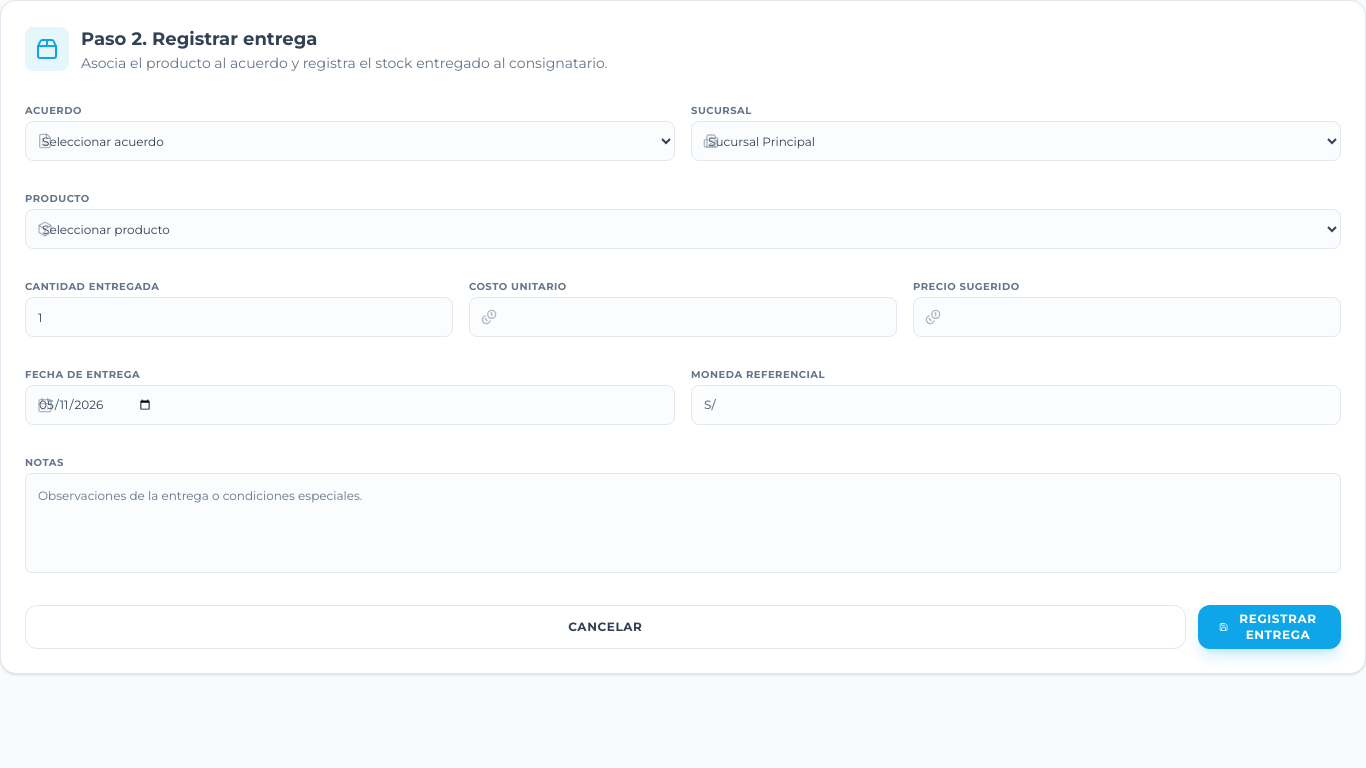
Test case: CreateDeliveredConsignmentForm › fills cost and suggested price inputs after selecting a product
Select "Zapato Derby" in the dropdown labelled "Producto" at (683, 229), box x1=25 y1=209 x2=1341 y2=249
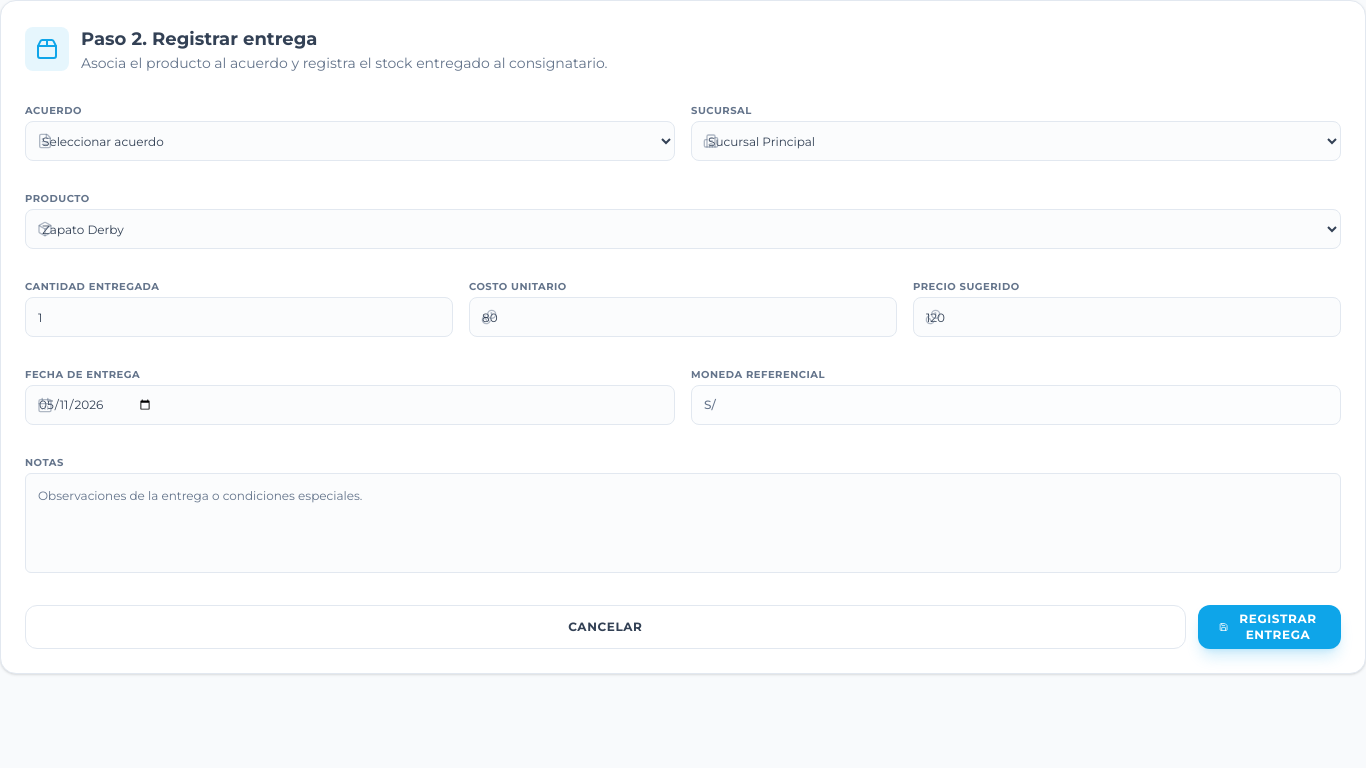
Now the number field labelled "Costo Unitario" holds "80", box x1=469 y1=297 x2=897 y2=337
Now the number field labelled "Precio Sugerido" holds "120", box x1=913 y1=297 x2=1341 y2=337
